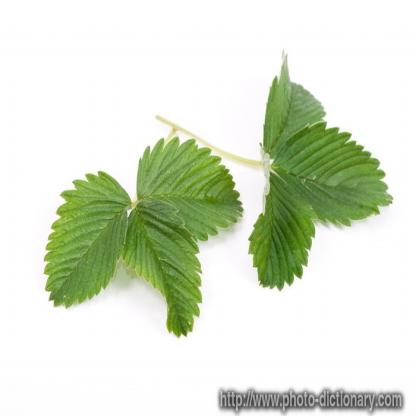strawberry leaf: (275, 118, 390, 244), (40, 165, 130, 315), (118, 190, 206, 343), (128, 137, 245, 243), (243, 165, 322, 302), (257, 51, 331, 166)
